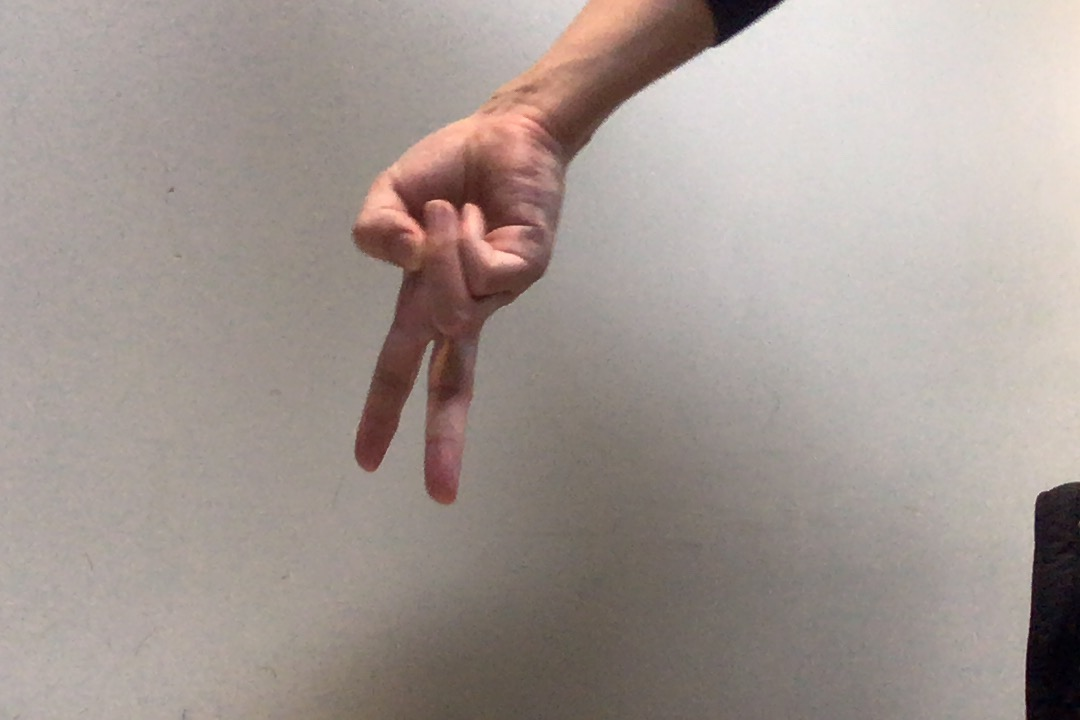peacesign: (340, 116, 565, 510)
